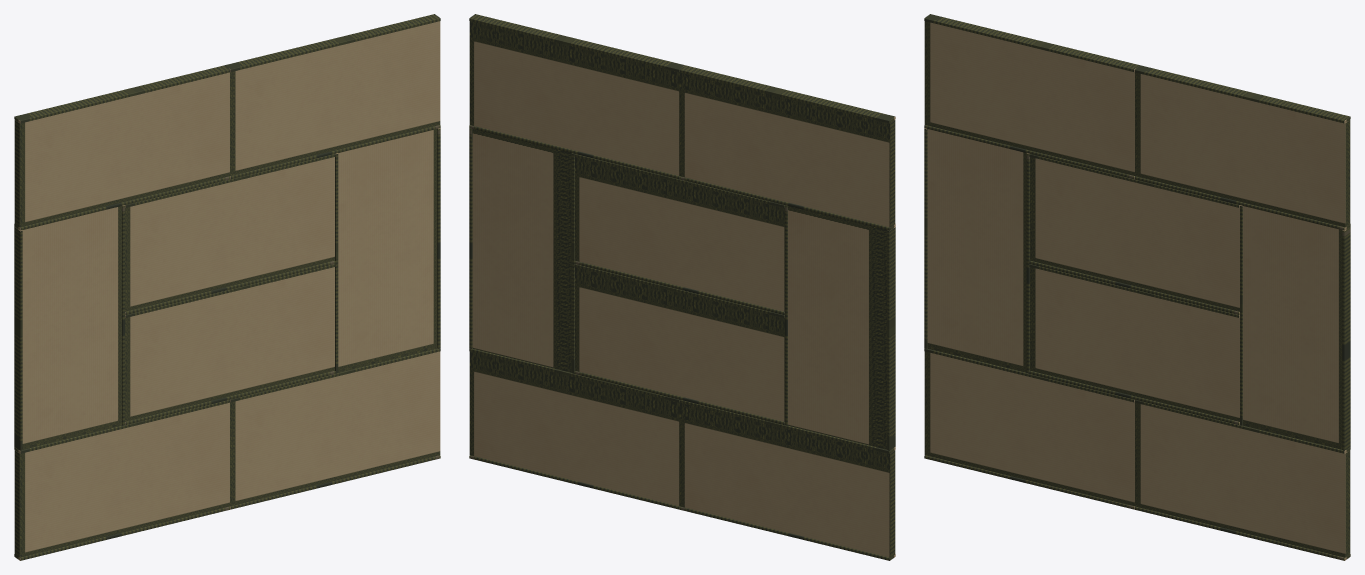
Rendered from Tatami_Group.fbx.
3 renders of one model, left to right at view 1: azimuth 30°, elevation 25°; view 2: azimuth 150°, elevation 25°; view 3: azimuth 330°, elevation 25°, orthographic.
Visible parts, largest first — view 1: Tatami_3, Tatami_4, Tatami_7, Tatami_5, Tatami_6, Tatami_8, Tatami_2, Tatami_1; view 2: Tatami_3, Tatami_4, Tatami_7, Tatami_5, Tatami_6, Tatami_8, Tatami_2, Tatami_1; view 3: Tatami_4, Tatami_3, Tatami_8, Tatami_6, Tatami_5, Tatami_7, Tatami_2, Tatami_1.
Part boxes in pixels (x1=…): Tatami_3: x1=14, y1=65, x2=230, y2=230; Tatami_4: x1=225, y1=14, x2=440, y2=179; Tatami_7: x1=14, y1=205, x2=124, y2=450; Tatami_5: x1=14, y1=400, x2=230, y2=560; Tatami_6: x1=230, y1=348, x2=440, y2=509; Tatami_8: x1=335, y1=128, x2=440, y2=373; Tatami_2: x1=125, y1=264, x2=335, y2=424; Tatami_1: x1=125, y1=154, x2=335, y2=314; Tatami_3: x1=679, y1=65, x2=895, y2=230; Tatami_4: x1=469, y1=14, x2=684, y2=179; Tatami_7: x1=785, y1=205, x2=895, y2=450; Tatami_5: x1=679, y1=400, x2=895, y2=560; Tatami_6: x1=469, y1=348, x2=679, y2=509; Tatami_8: x1=469, y1=128, x2=574, y2=373; Tatami_2: x1=574, y1=264, x2=784, y2=424; Tatami_1: x1=574, y1=154, x2=784, y2=314; Tatami_4: x1=1134, y1=65, x2=1350, y2=230; Tatami_3: x1=924, y1=14, x2=1139, y2=179; Tatami_8: x1=1240, y1=205, x2=1350, y2=450; Tatami_6: x1=1134, y1=400, x2=1350, y2=560; Tatami_5: x1=924, y1=348, x2=1134, y2=509; Tatami_7: x1=924, y1=128, x2=1029, y2=373; Tatami_2: x1=1029, y1=264, x2=1239, y2=424; Tatami_1: x1=1029, y1=154, x2=1239, y2=314.
Size of the model in its own units: 400 by 400 by 10.27.
